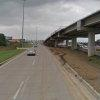Bridge: (42, 10, 100, 59)
